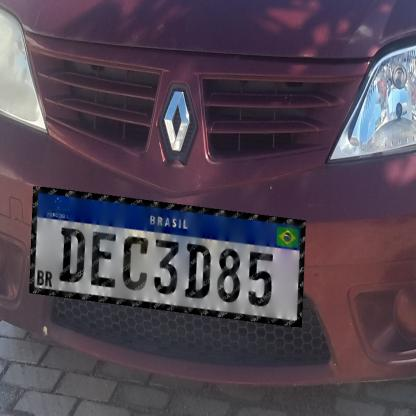PlacaM: (29, 186, 306, 328)
